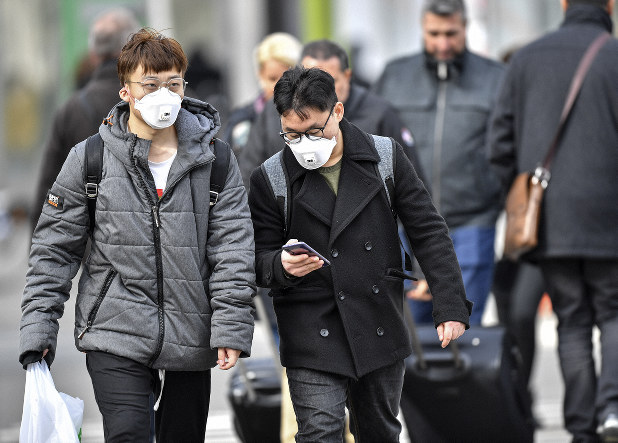mask: (277, 132, 349, 176), (129, 85, 189, 128)
